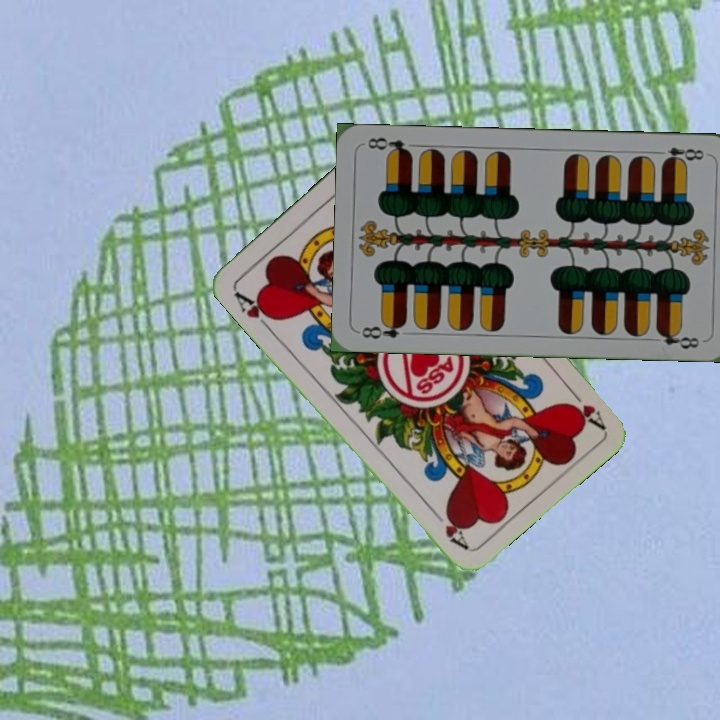E8: (651, 143, 707, 167), (358, 317, 408, 341)
HA: (229, 285, 281, 333), (562, 382, 607, 431)
